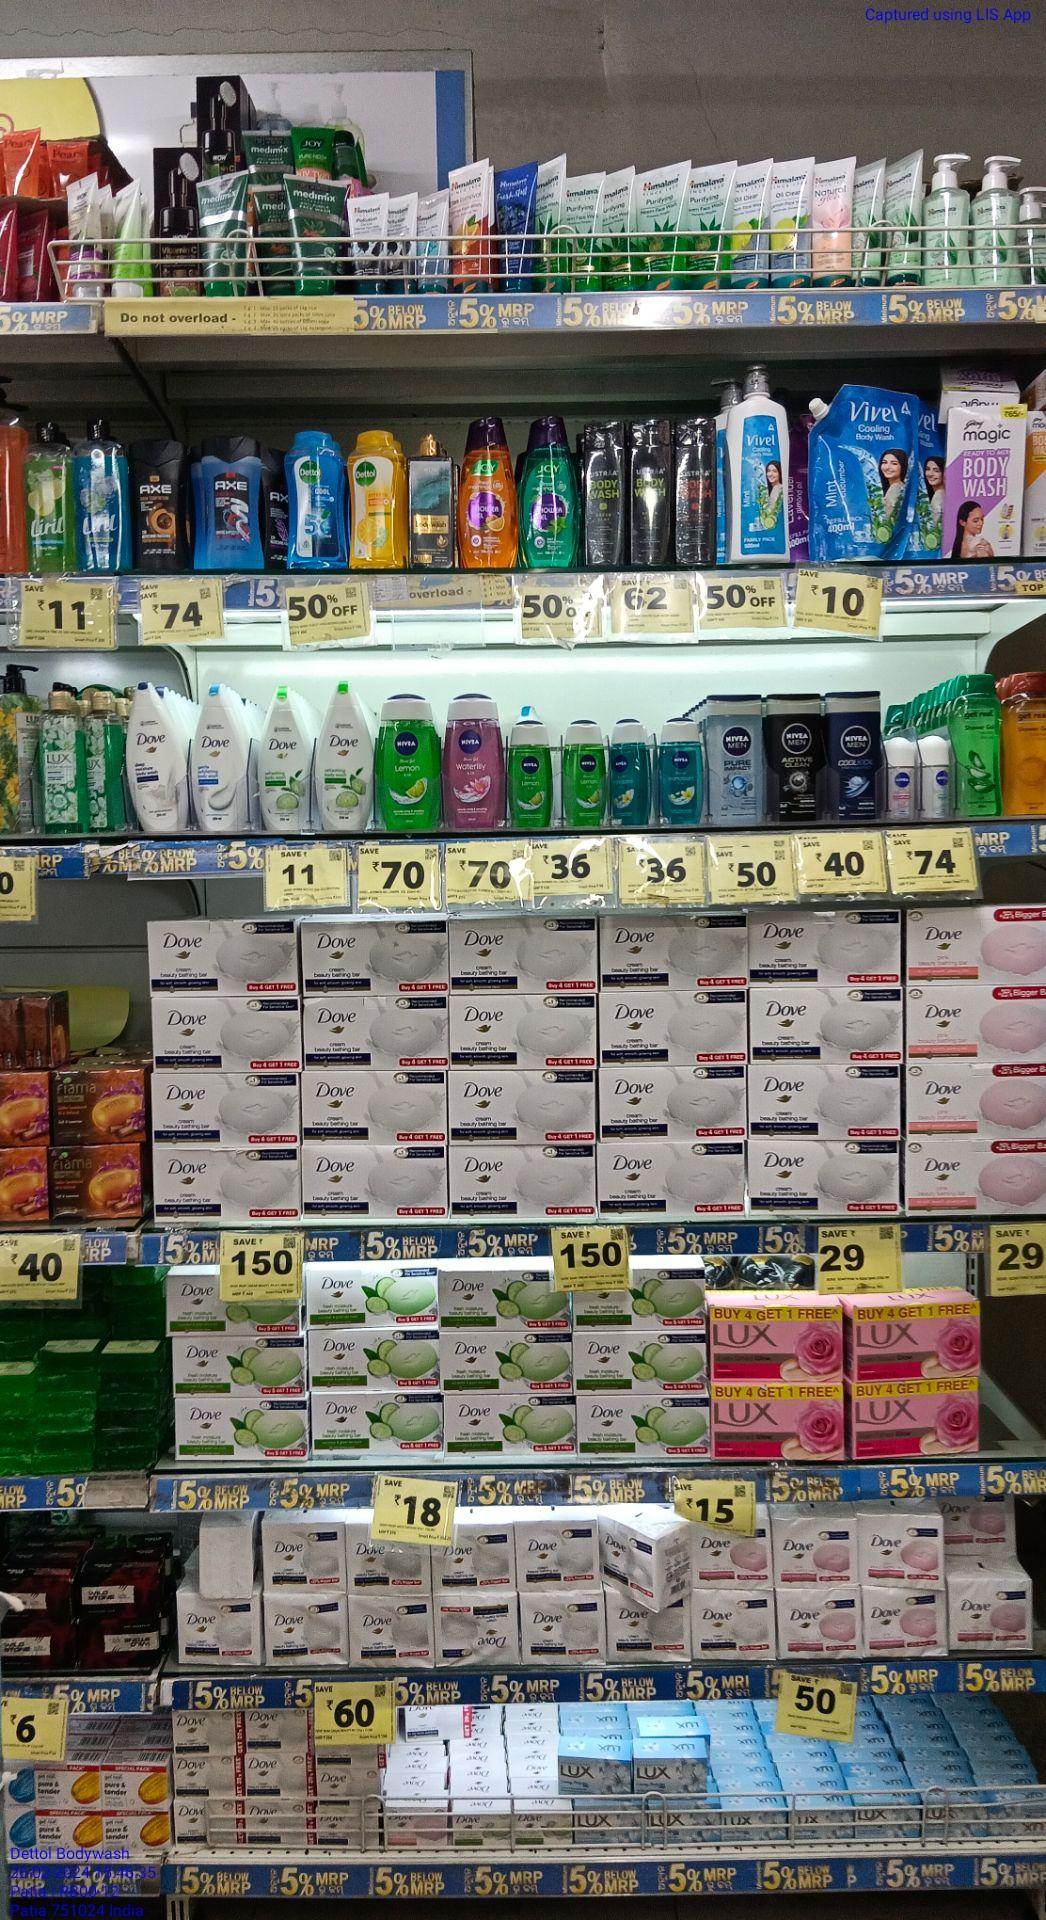Dettol_Bodywash_Cool: (283, 430, 345, 569)
Dettol_Bodywash_Refresh: (349, 431, 402, 569)
Dove_Deep_Moisture_Body_Wash_250ML: (126, 680, 185, 833)
Dove_Gentle_Exfoliating_Body_Wash_250ML: (193, 686, 251, 833)
Dove_Refreshing_Body_Wash_250ML: (319, 681, 374, 832), (260, 689, 313, 834)
Get_Real_Shower_Gel_Moisturising_Glycerin_300ML: (1005, 671, 1046, 811)
Joy_Shower_Gel_Mandarin_and_Lemongrass_250ML: (460, 417, 518, 567)
Joy_Shower_Gel_Mint_and_Eucalyptus_250ML: (520, 413, 580, 567)
Liril_Cooling_Mint_Body_Wash_250ML: (77, 413, 126, 568)
Liril_Lime_and_Tea_Tree_Oil_Body_Wash_250ML: (24, 420, 71, 569)
Lux_Body_Wash_Skin_Detox_Freesia_Scent_and_Alove_Vera_245ML: (39, 692, 84, 836), (85, 692, 120, 832)
Nivea_Shower_Gel_Lemon_and_Oil_250ML: (380, 699, 438, 829)
Nivea_Shower_Gel_Waterlily_and_Oil_250ML: (446, 698, 504, 827)
